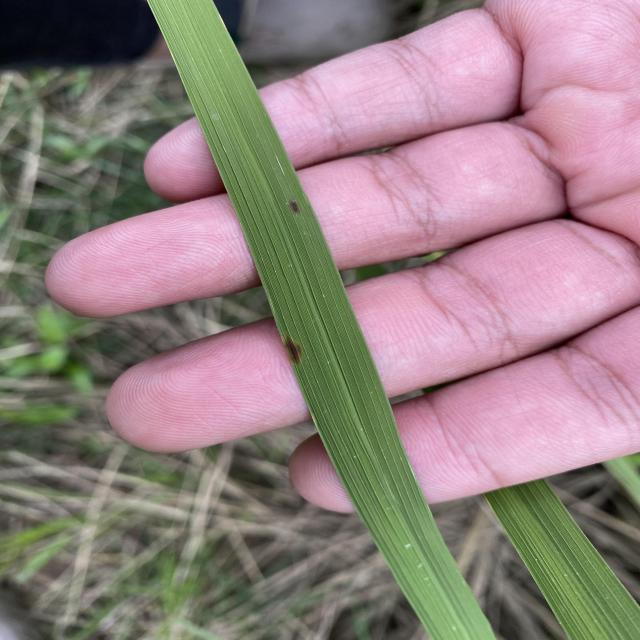Dom nau: (282, 334, 306, 371), (287, 199, 302, 215)
